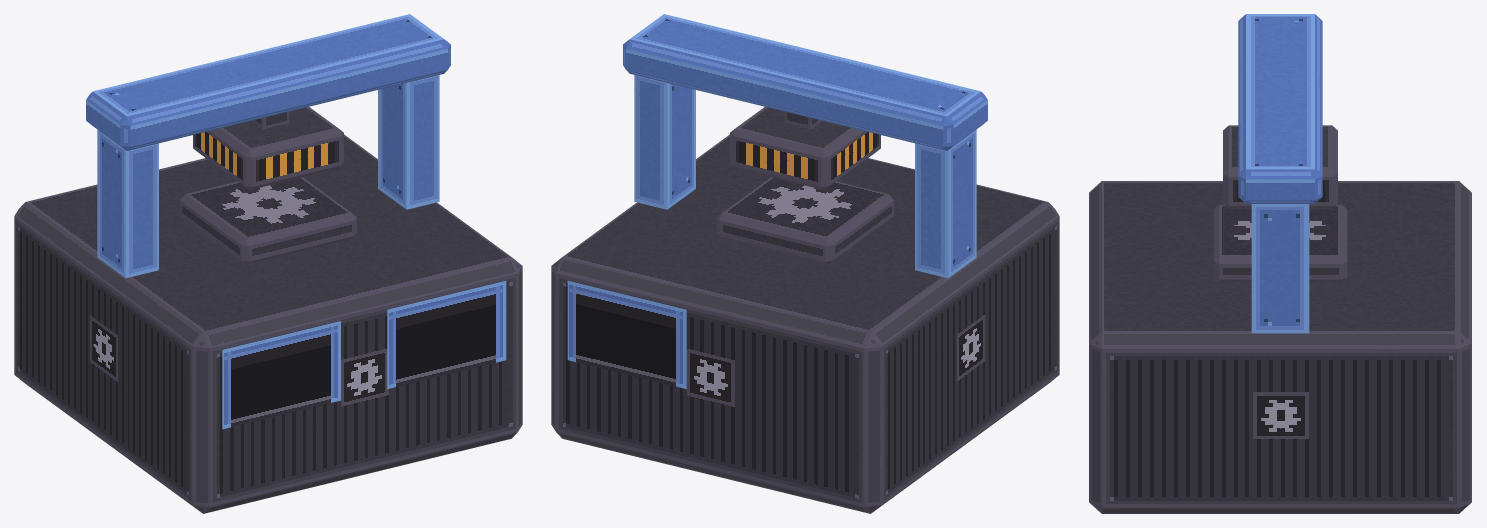
Rendered from comp_factory.glb.
3 renders of one model, left to right at view 1: azimuth 30°, elevation 25°; view 2: azimuth 150°, elevation 25°; view 3: azimuth 270°, elevation 25°, orthographic.
Parts seen in each view (by area): view 1: comp_factory_body, comp_factory_ram; view 2: comp_factory_body, comp_factory_ram; view 3: comp_factory_body, comp_factory_ram.
Boxes of the visible parts, x1,y1,x2,y2 form: comp_factory_body: (14, 14, 522, 513); comp_factory_ram: (193, 107, 343, 189); comp_factory_body: (551, 14, 1059, 513); comp_factory_ram: (730, 107, 880, 189); comp_factory_body: (1089, 14, 1471, 513); comp_factory_ram: (1223, 125, 1337, 208).
Bounding box in the file's own units: 2 × 2 × 2.01.
Materials: 1 (1 with a texture image).
